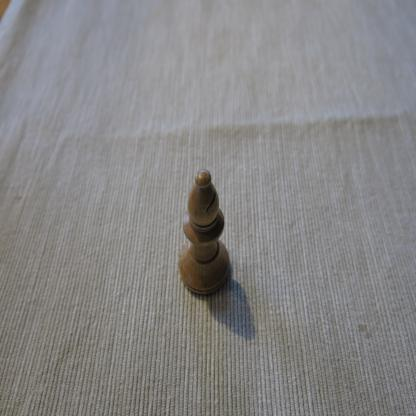white-bishop: (178, 168, 232, 299)
